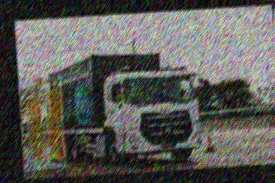truck: (50, 48, 205, 168)
